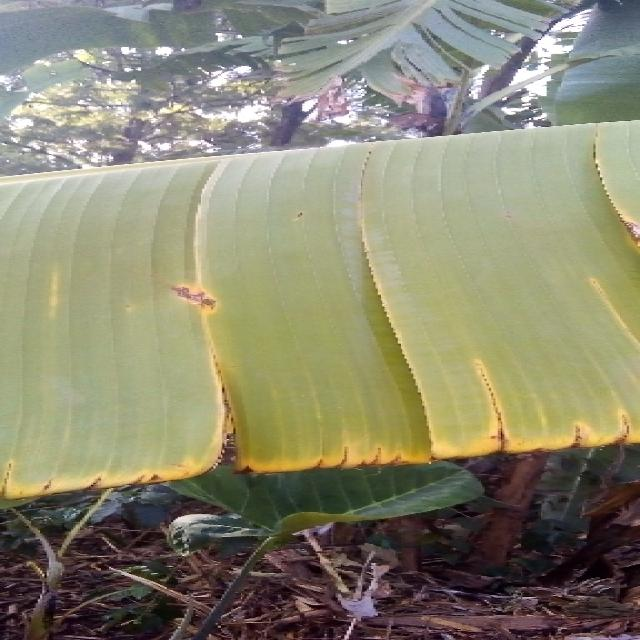Cordana: (0, 123, 640, 489)
